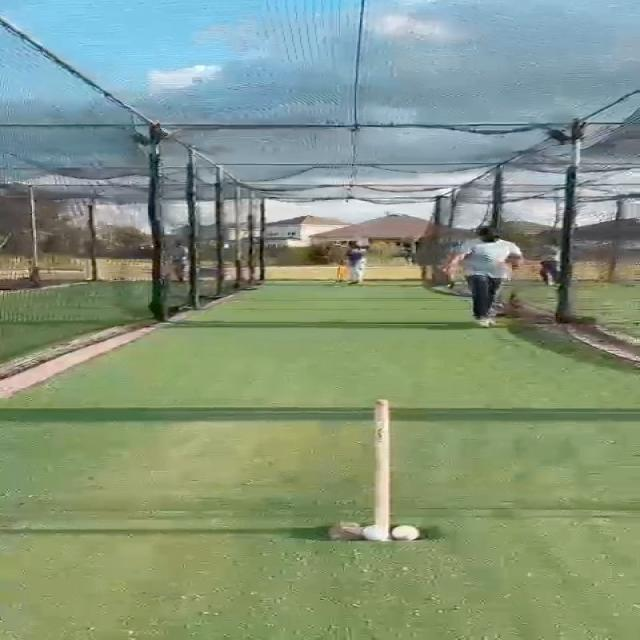batsman: (333, 239, 371, 287)
